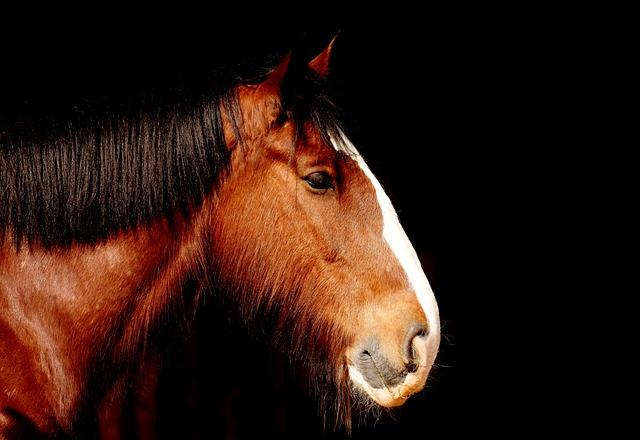Non_Gorille: (7, 45, 466, 430)
